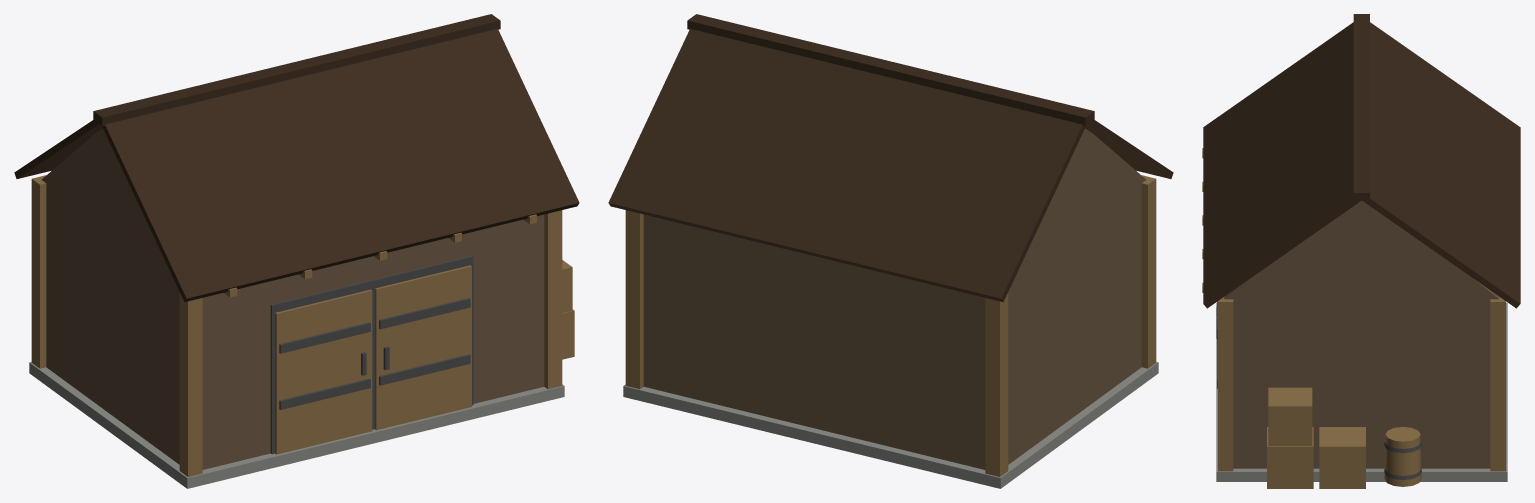
The model's file is dockside-warehouse.glb.
3 renders of one model, left to right at view 1: azimuth 30°, elevation 25°; view 2: azimuth 150°, elevation 25°; view 3: azimuth 270°, elevation 25°, orthographic. The views are drawn at different scales.
Parts seen in each view (by area): view 1: roof_front, wall_front, wall_left, door_leaf_0, door_leaf_1, foundation, ridge_cap, gable_left, corner_post_1, door_frame, corner_post_3, corner_post_0 (+7 smaller); view 2: roof_back, wall_back, wall_left, foundation, ridge_cap, gable_left, corner_post_0, corner_post_2, corner_post_1, roof_front, wall_right; view 3: wall_right, roof_front, roof_back, gable_right, ridge_cap, crate_2, corner_post_3, corner_post_2, foundation, crate_3, crate_1, barrel_1 (+2 smaller).
Part boxes in pixels (x1=…): roof_front: x1=102, y1=29, x2=579, y2=302; wall_front: x1=202, y1=215, x2=543, y2=469; wall_left: x1=46, y1=185, x2=203, y2=464; door_leaf_0: x1=275, y1=289, x2=372, y2=454; door_leaf_1: x1=375, y1=265, x2=471, y2=430; foundation: x1=29, y1=362, x2=564, y2=488; ridge_cap: x1=93, y1=14, x2=500, y2=126; gable_left: x1=41, y1=128, x2=171, y2=274; corner_post_1: x1=179, y1=292, x2=202, y2=476; door_frame: x1=270, y1=255, x2=473, y2=454; corner_post_3: x1=544, y1=210, x2=562, y2=389; corner_post_0: x1=31, y1=175, x2=46, y2=368; roof_back: x1=608, y1=29, x2=1085, y2=302; wall_back: x1=643, y1=214, x2=985, y2=469; wall_left: x1=984, y1=183, x2=1141, y2=464; foundation: x1=623, y1=362, x2=1158, y2=488; ridge_cap: x1=687, y1=14, x2=1094, y2=126; gable_left: x1=1016, y1=128, x2=1146, y2=274; corner_post_0: x1=985, y1=292, x2=1008, y2=476; corner_post_2: x1=625, y1=210, x2=643, y2=389; corner_post_1: x1=1141, y1=175, x2=1156, y2=368; roof_front: x1=1085, y1=120, x2=1173, y2=178; wall_right: x1=643, y1=215, x2=648, y2=387; wall_right: x1=1233, y1=299, x2=1490, y2=468; roof_front: x1=1203, y1=22, x2=1360, y2=308; roof_back: x1=1362, y1=22, x2=1520, y2=308; gable_right: x1=1224, y1=200, x2=1499, y2=299; ridge_cap: x1=1353, y1=14, x2=1369, y2=200; crate_2: x1=1319, y1=427, x2=1365, y2=488; corner_post_3: x1=1218, y1=297, x2=1233, y2=471; corner_post_2: x1=1490, y1=297, x2=1505, y2=471; foundation: x1=1216, y1=302, x2=1507, y2=481; crate_3: x1=1268, y1=387, x2=1312, y2=445; crate_1: x1=1267, y1=427, x2=1313, y2=488; barrel_1: x1=1384, y1=427, x2=1421, y2=486.
Bounding box in the file's own units: 8.22 × 5.9 × 5.79.
